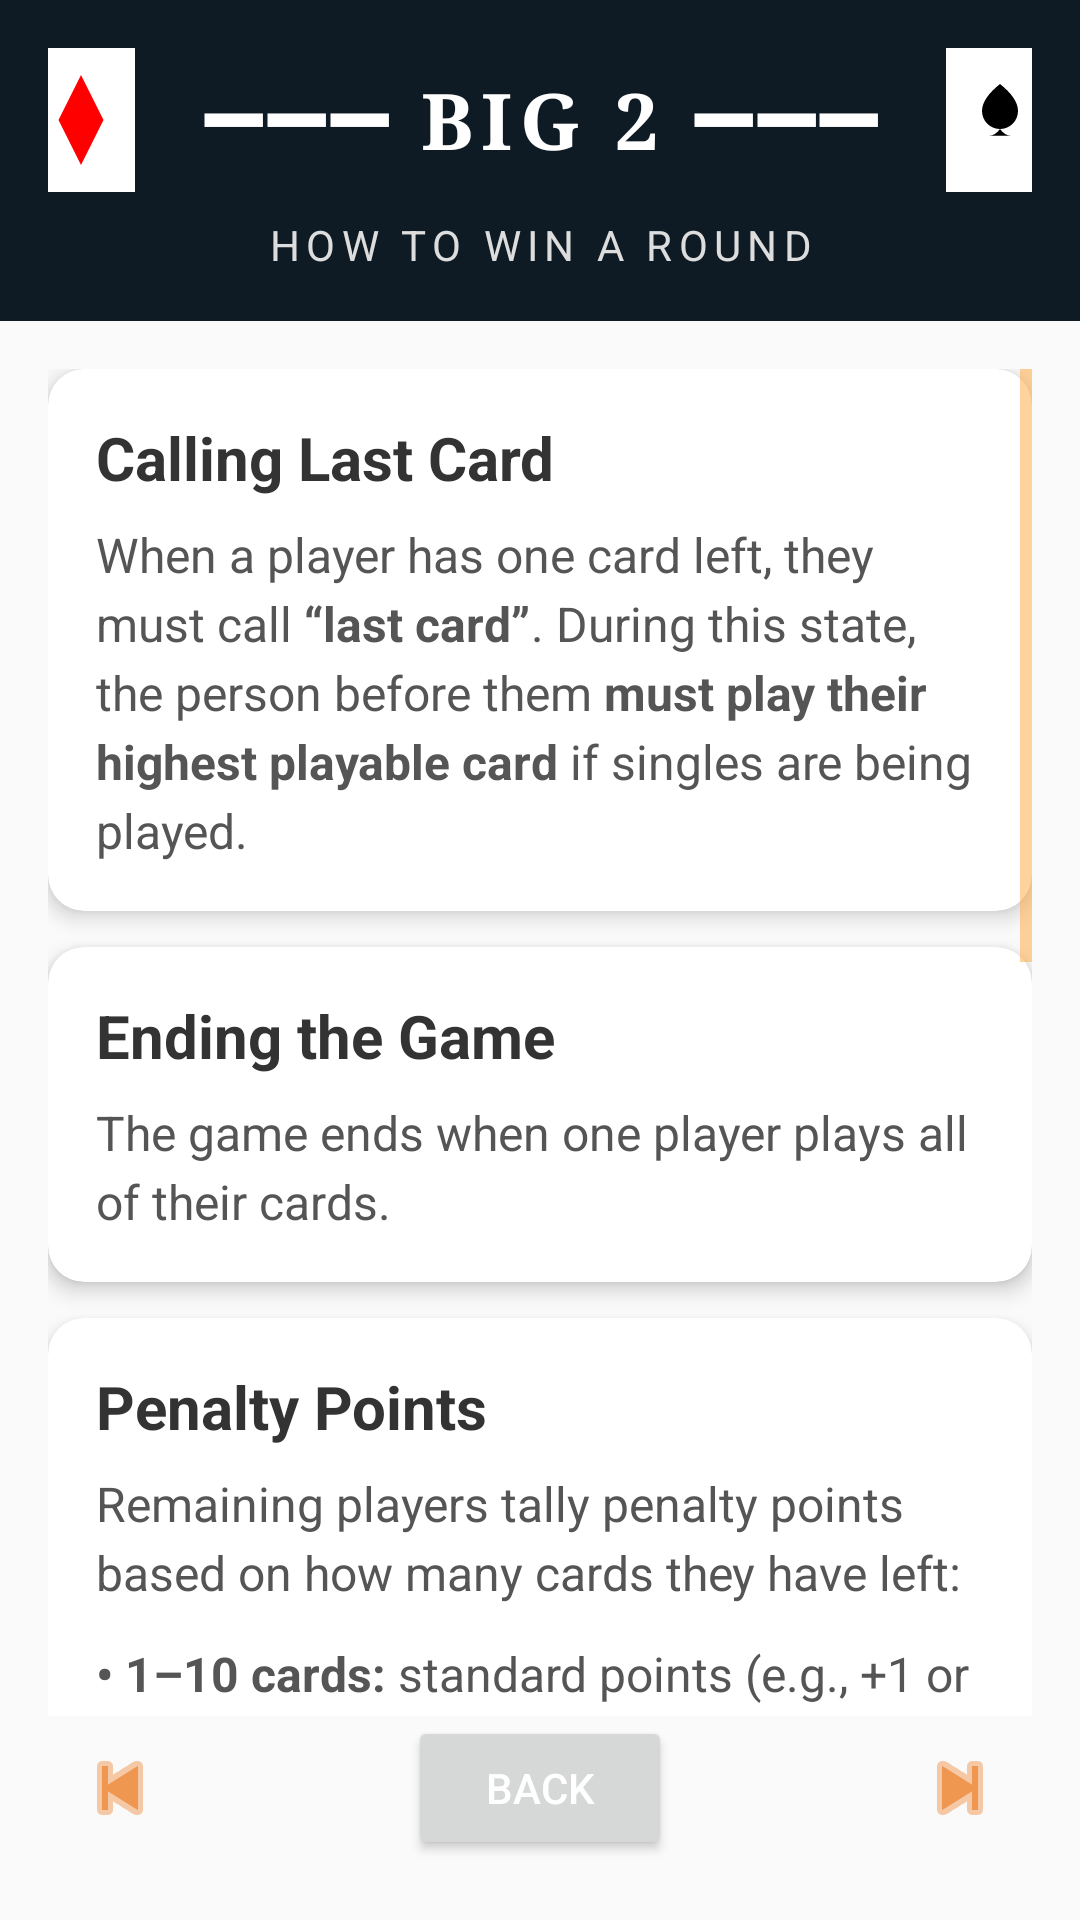

Named icons in this screenshot (1080px x 1920px) and their centers, point (x, y):
Next: point (960, 1788)
Previous: point (120, 1788)
